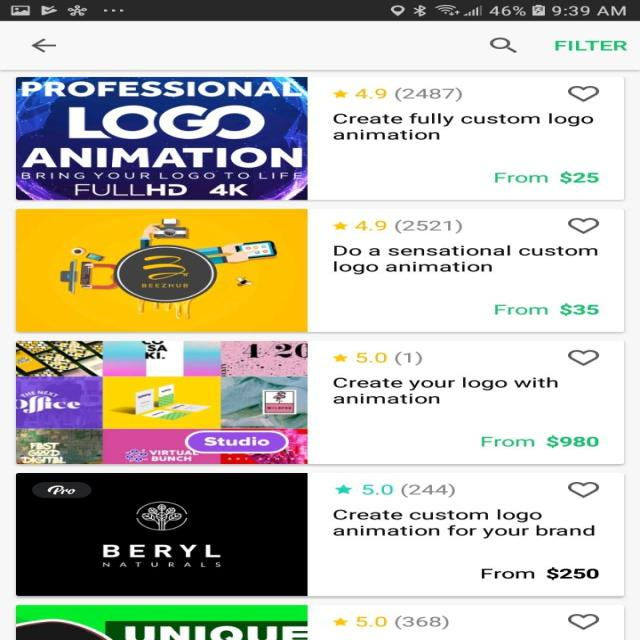Icon: (566, 481, 599, 498), (566, 613, 599, 630), (567, 218, 599, 235), (567, 349, 599, 366), (567, 86, 599, 102), (488, 38, 518, 53), (31, 38, 57, 53), (333, 484, 353, 494), (332, 89, 348, 98), (332, 221, 348, 230), (332, 353, 348, 362), (332, 617, 348, 626)
Image: (15, 208, 308, 332), (15, 473, 308, 596), (15, 341, 308, 464), (15, 77, 308, 200), (16, 604, 308, 639)
Text: (333, 244, 598, 274), (332, 508, 594, 538), (331, 113, 593, 140), (332, 377, 558, 404), (480, 566, 599, 580), (480, 434, 598, 448), (354, 219, 462, 234), (354, 88, 462, 102), (361, 482, 455, 498), (355, 614, 449, 630), (494, 170, 599, 184), (494, 303, 598, 315), (356, 350, 422, 366), (554, 41, 626, 51)
